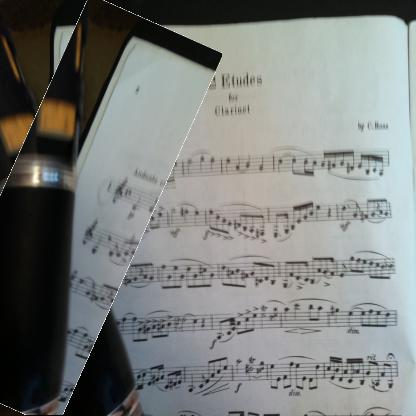Pen: (0, 0, 185, 415)
